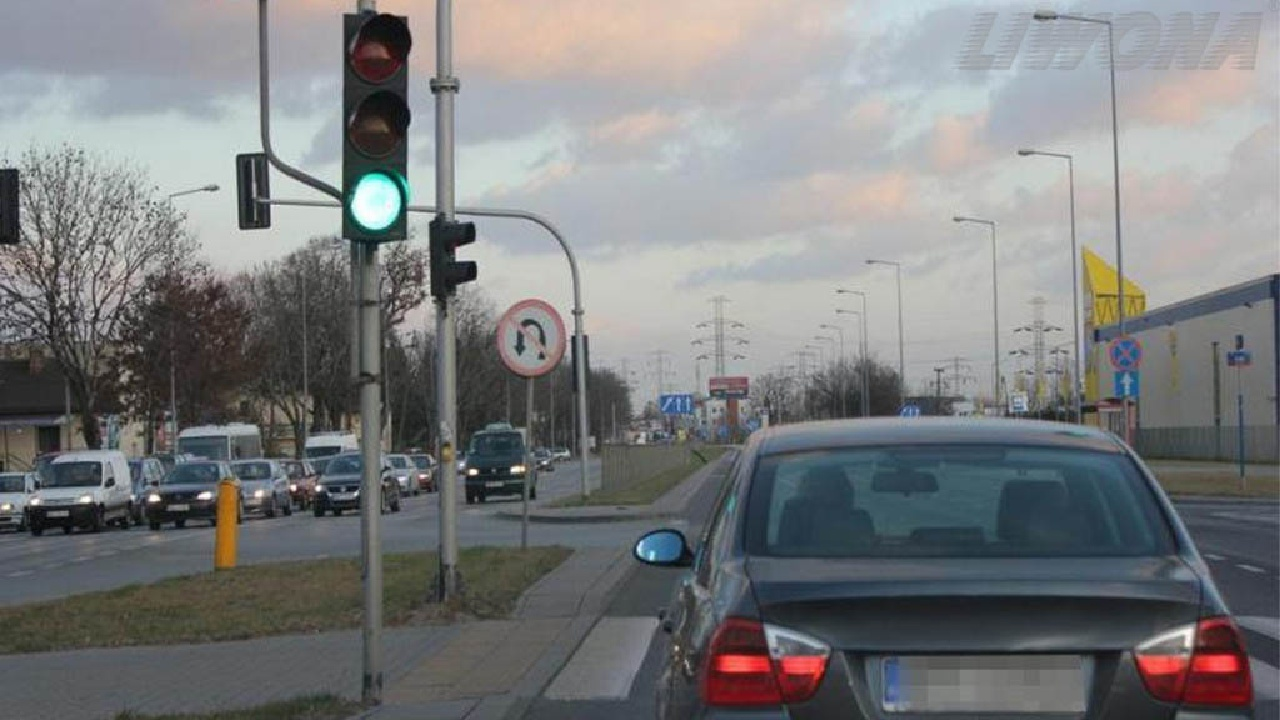B23: (495, 299, 569, 378)
D3: (1115, 371, 1139, 396)
Green: (344, 14, 405, 236)
